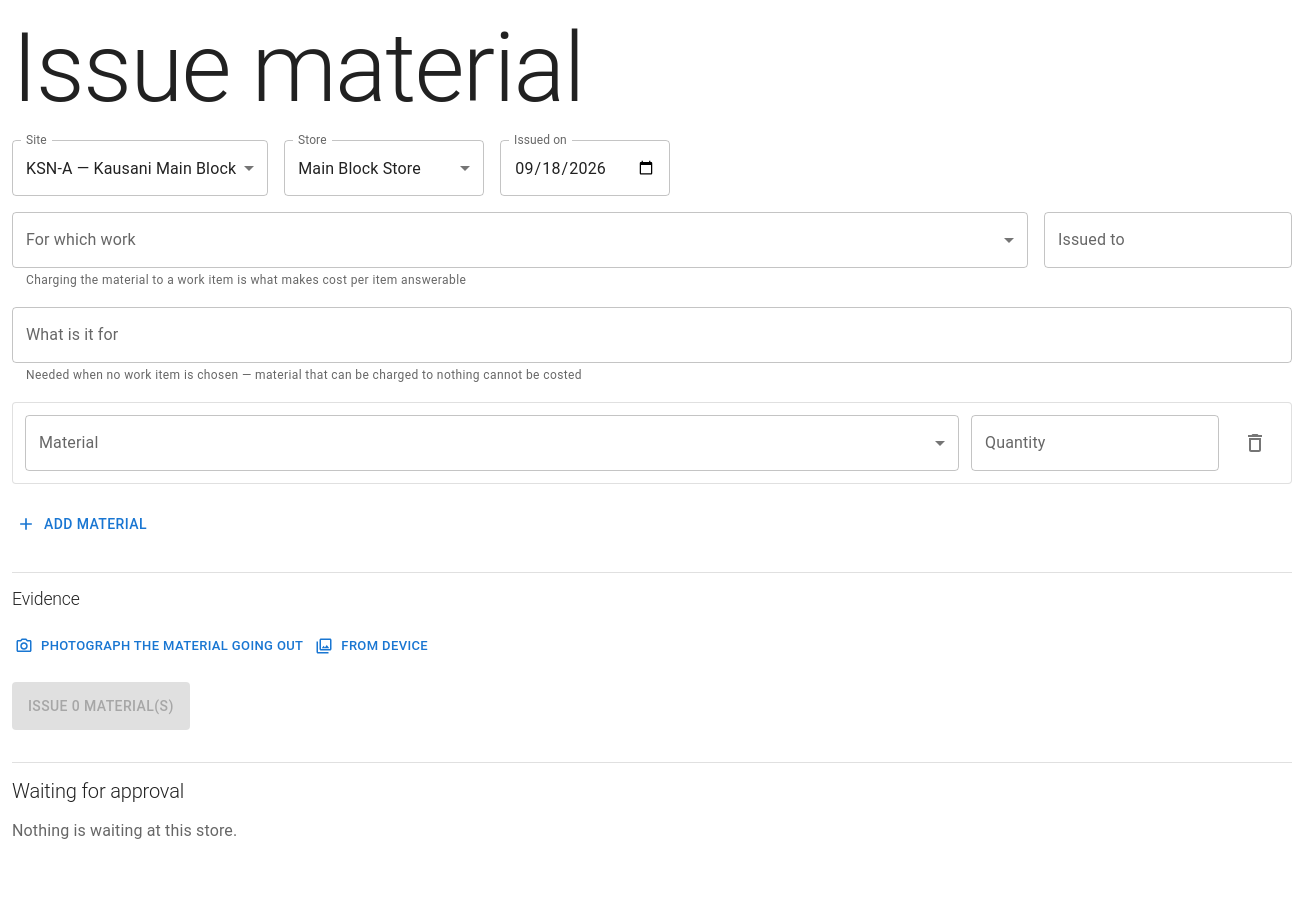
Scenario: IssueMaterialPage › refuses a quantity the store cannot cover, as it is typed
Click the dropdown named "Material" in the row of "Quantity" at (492, 443), box [25,415,959,471]
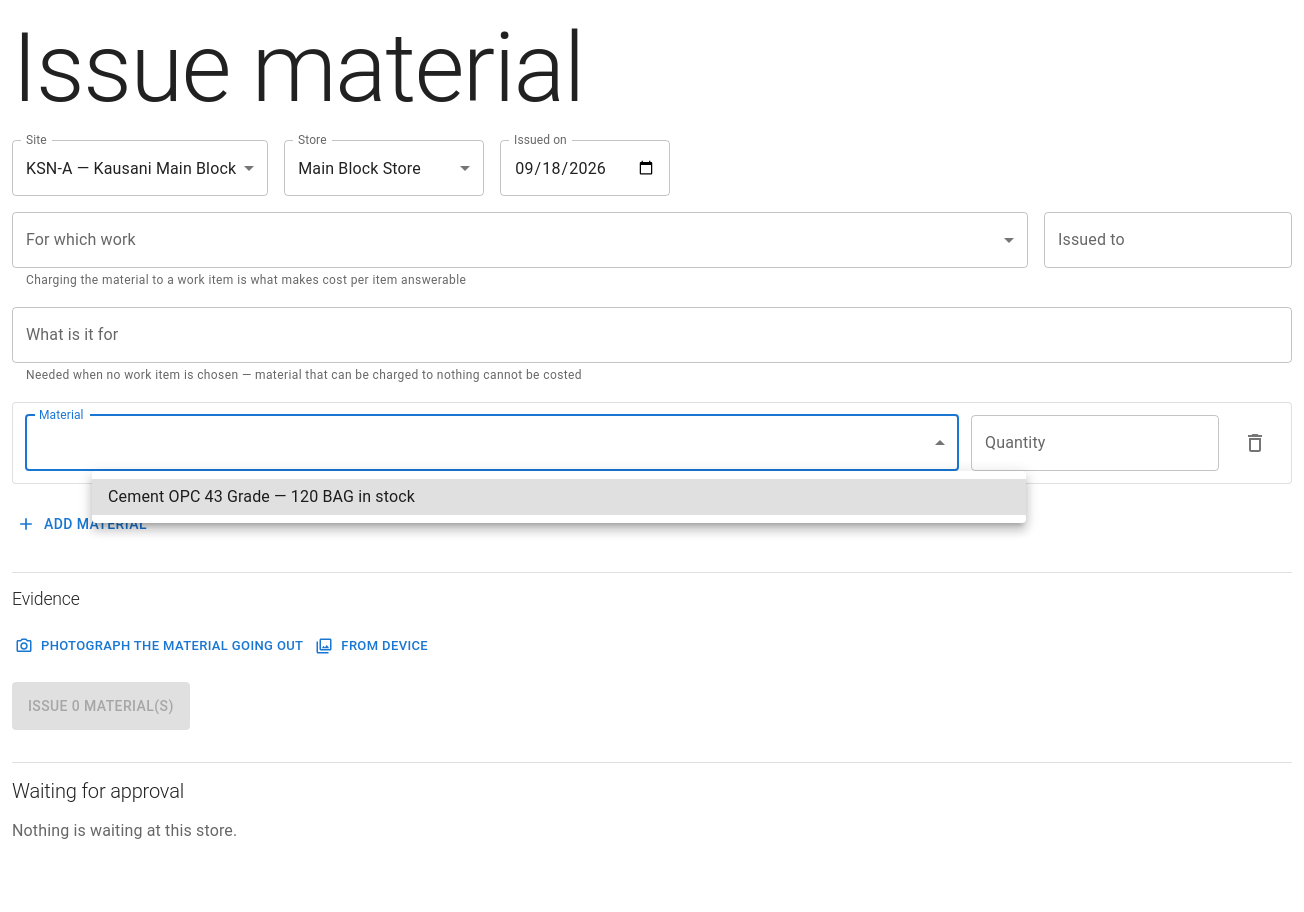
Click the option "Cement OPC 43 Grade — 120 BAG in stock" at (189, 496), box [92,479,1026,515]
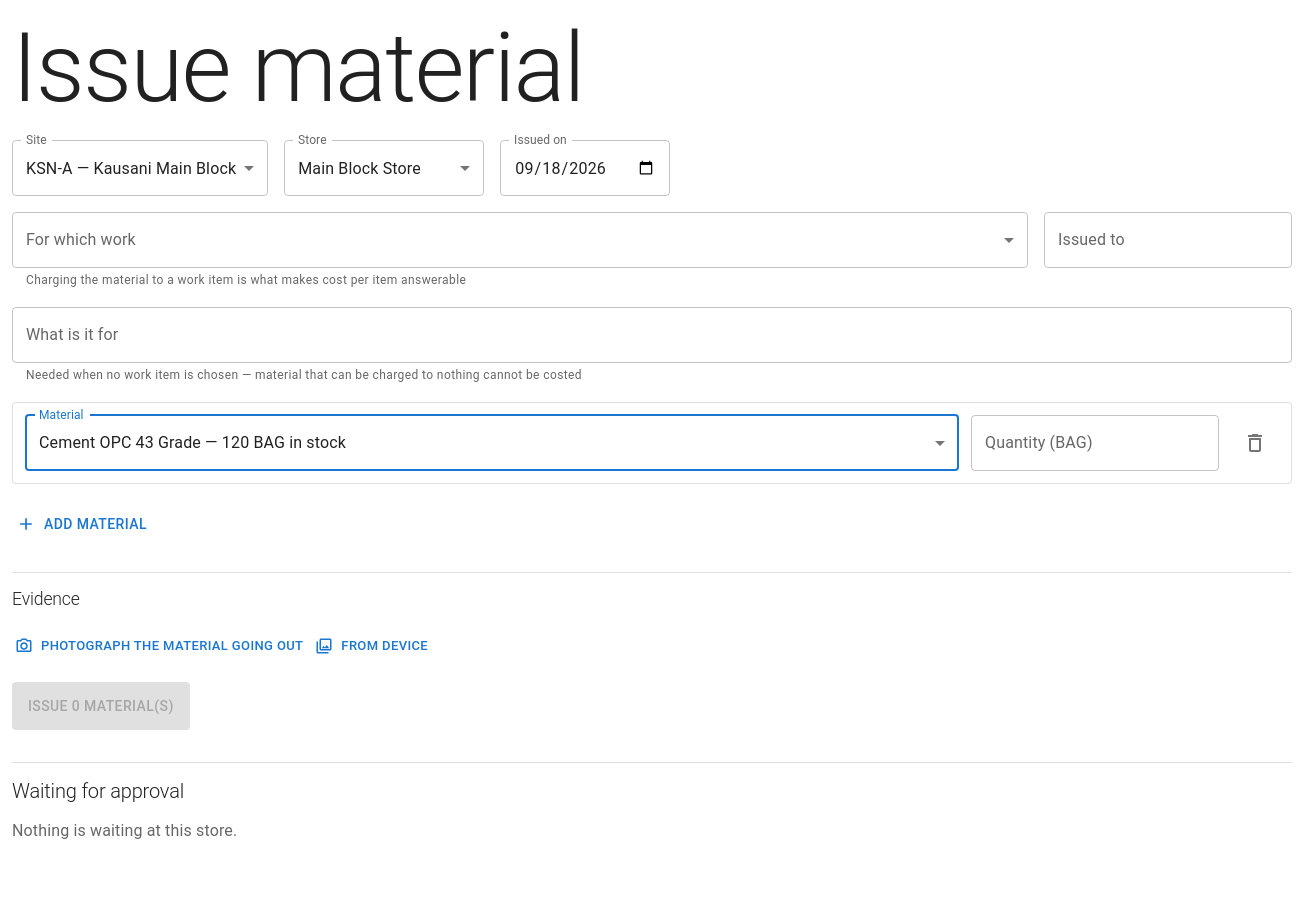
Type "200" into the number field labelled "Quantity (BAG)" at (1095, 443), box [971,415,1219,471]
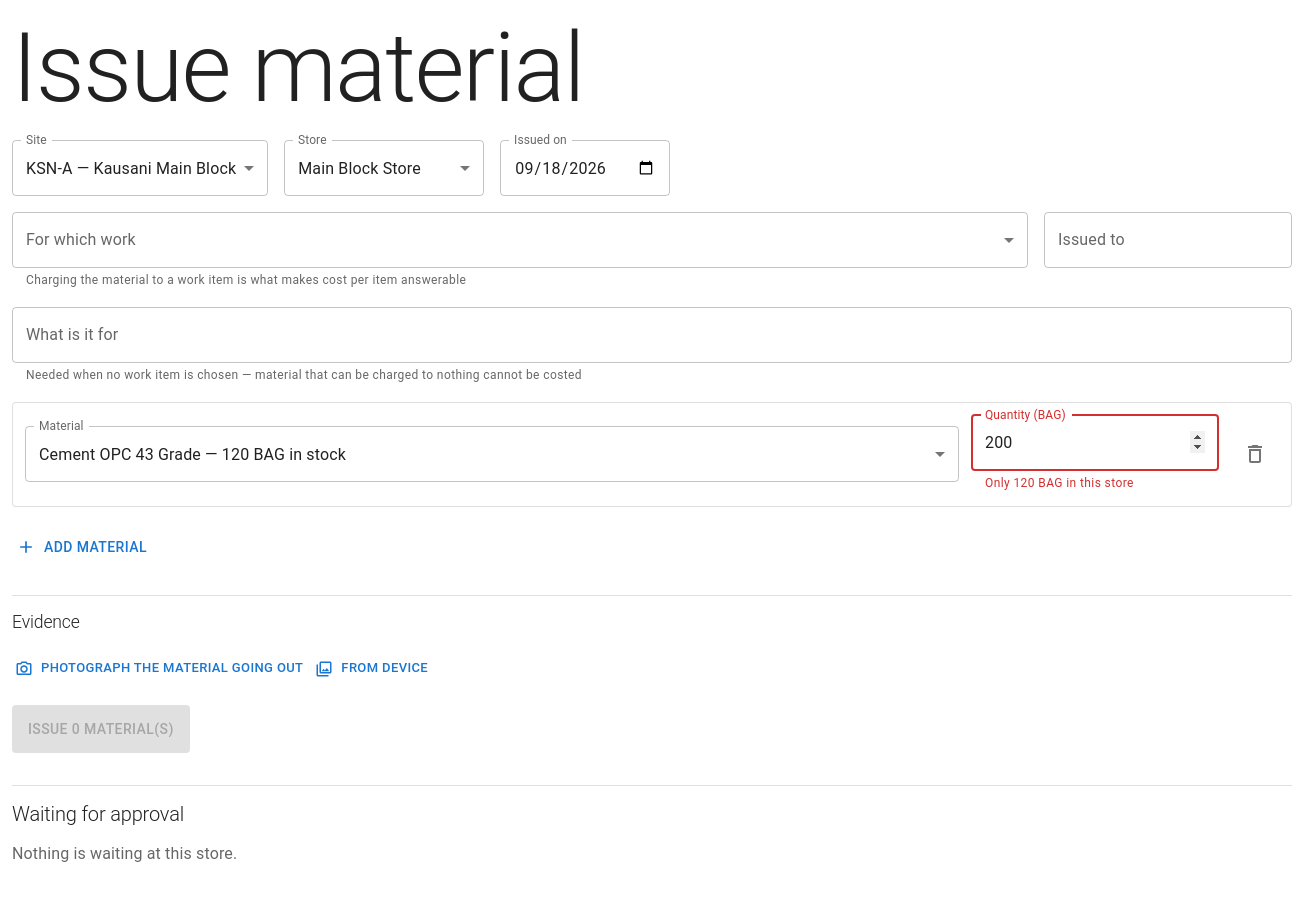
Expected: the button "Issue 0 material(s)" is disabled, [12,705,190,753]
Expected: the text "Only 120 BAG in this store" is shown, [985,476,1134,490]
